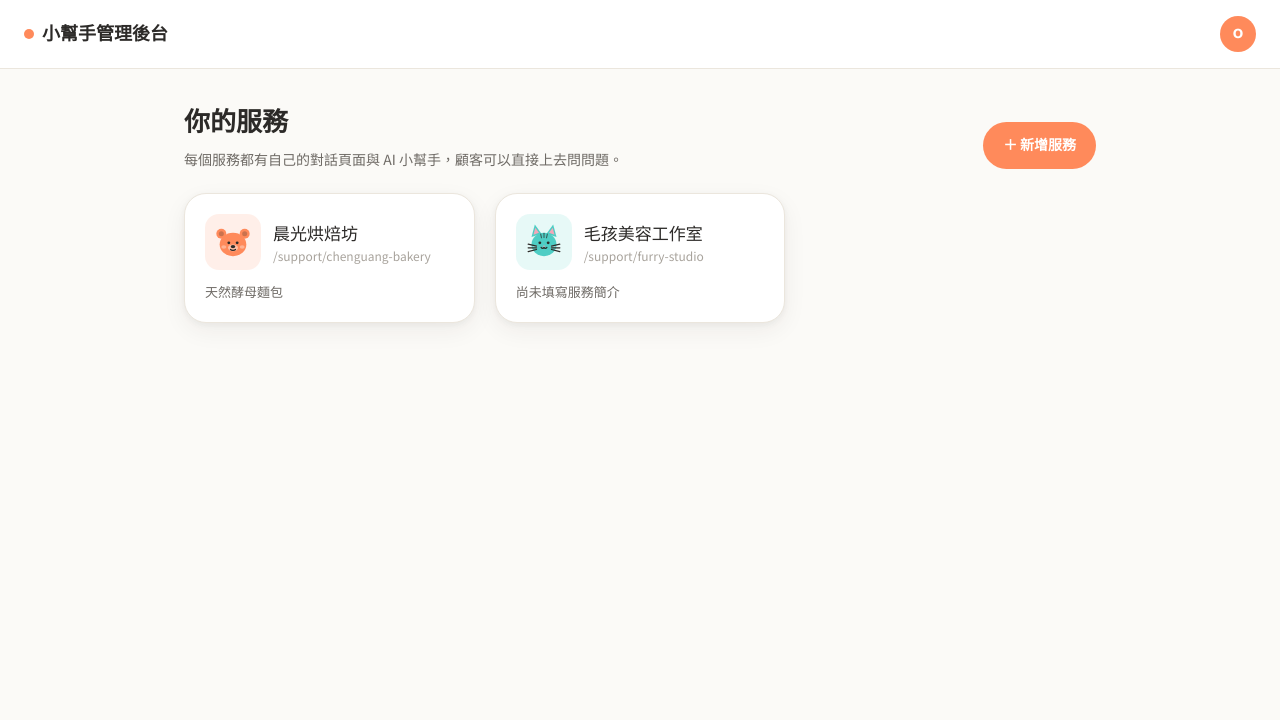
it: console: owner settings against the backend API › edit content › keeps text that was saved without editor state instead of dropping it
Expected: the heading "你的服務" is shown, [184,103,288,145]
Click the text "毛孩美容工作室".
click(644, 232)  # box [584,220,704,245]
(page scrolled)
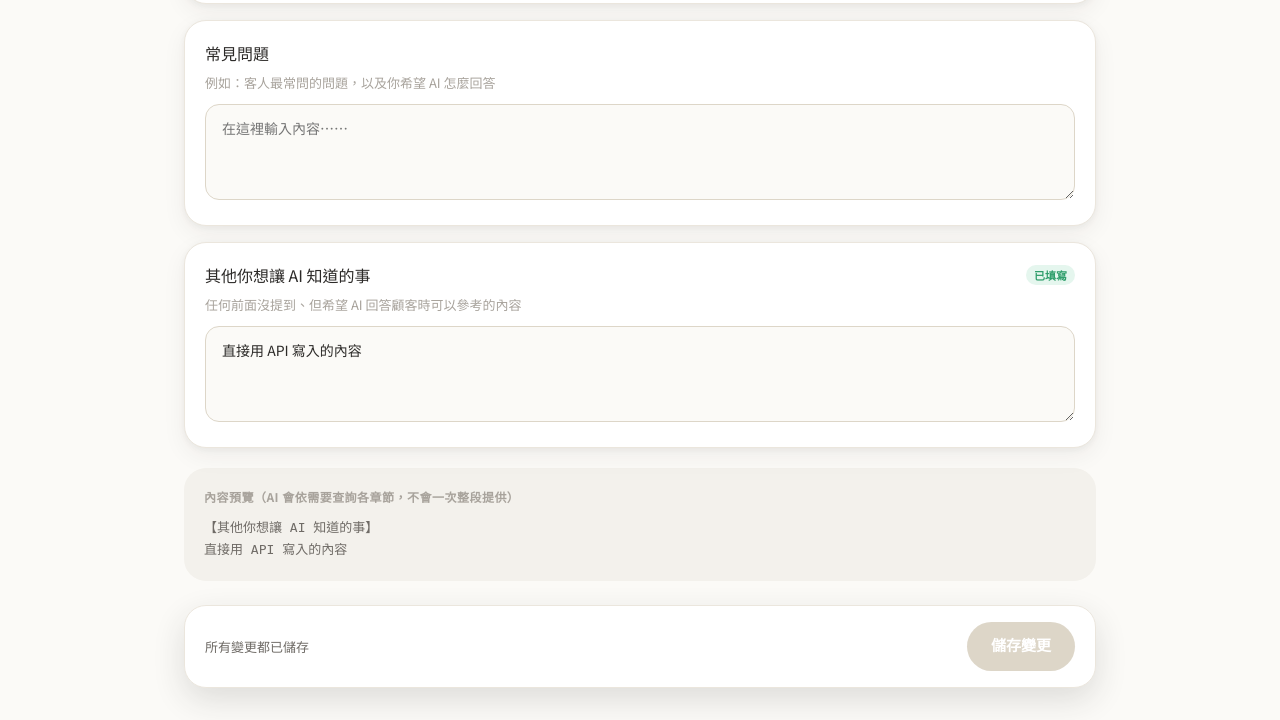
Now the text "【其他你想讓 AI 知道的事】 直接用 API 寫入的內容" is shown, box [204,520,378,557]
